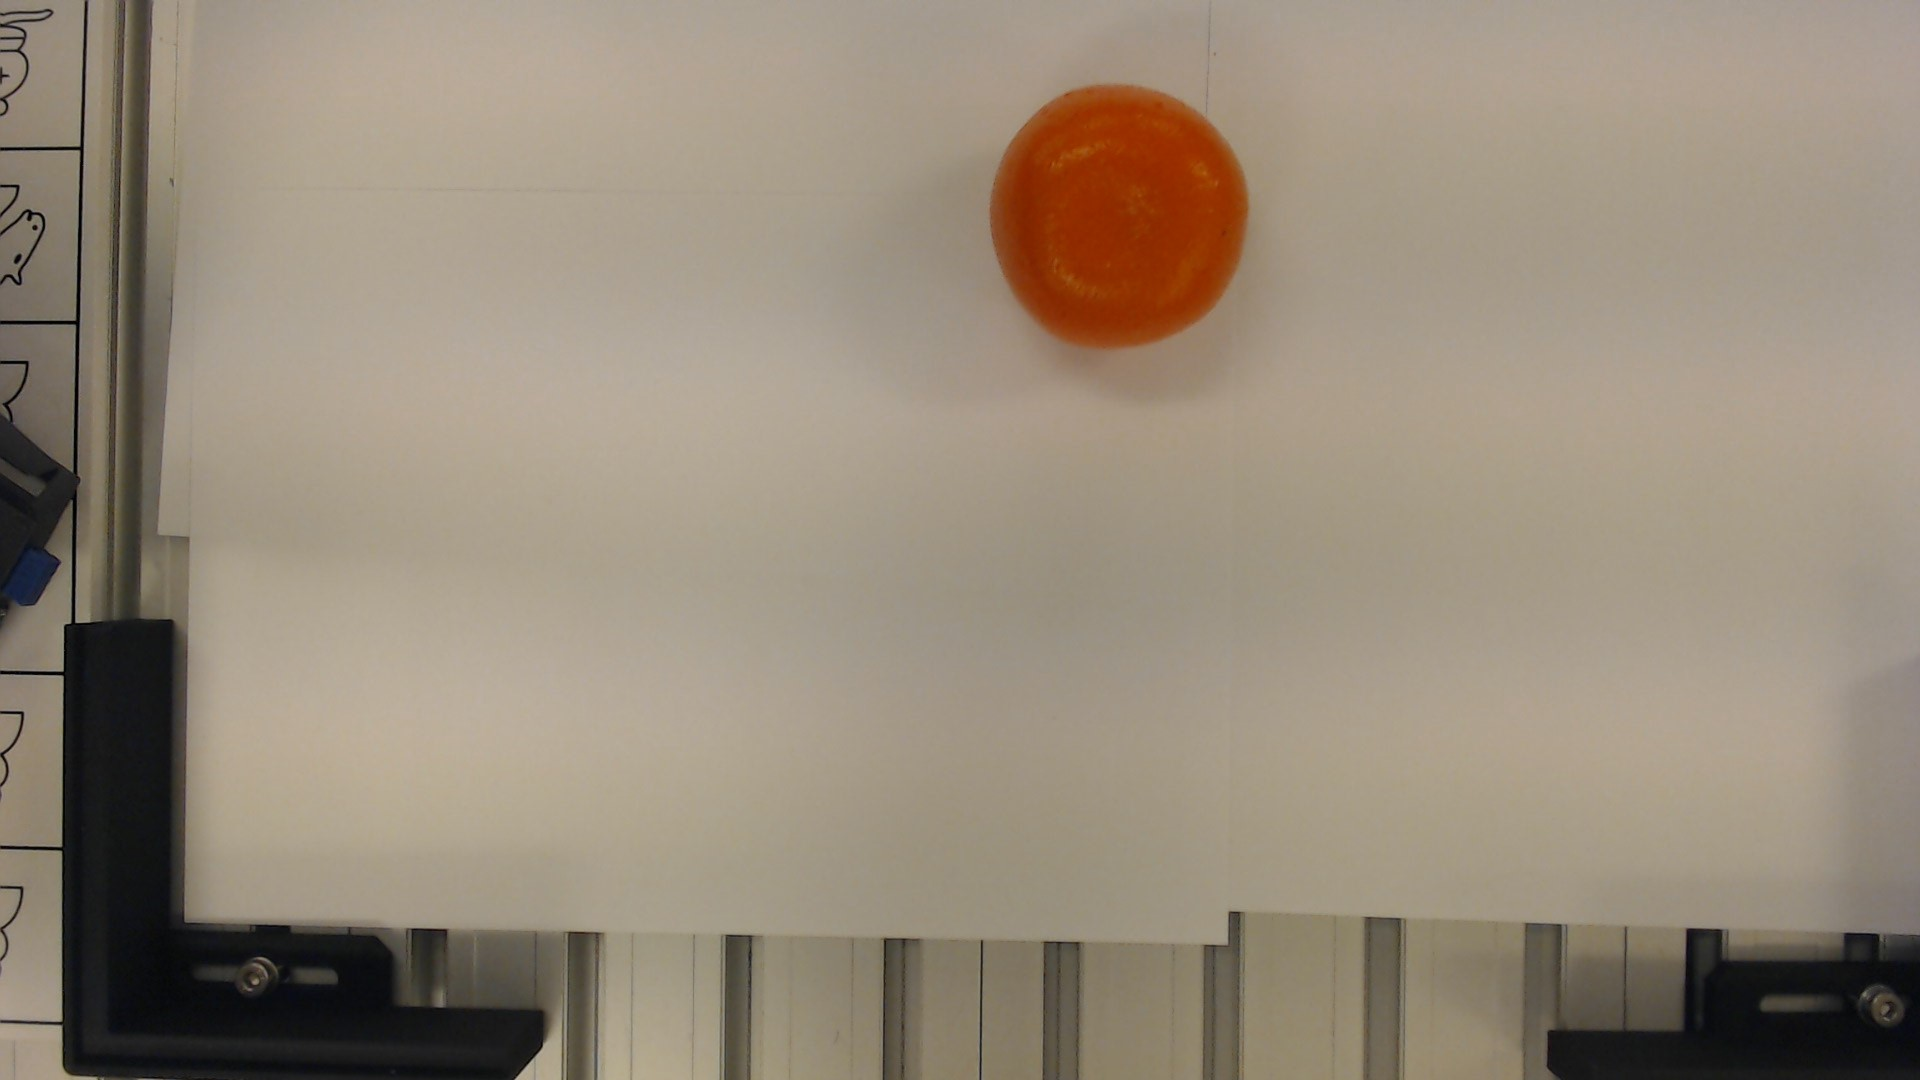Mandarin: (988, 79, 1250, 353)
